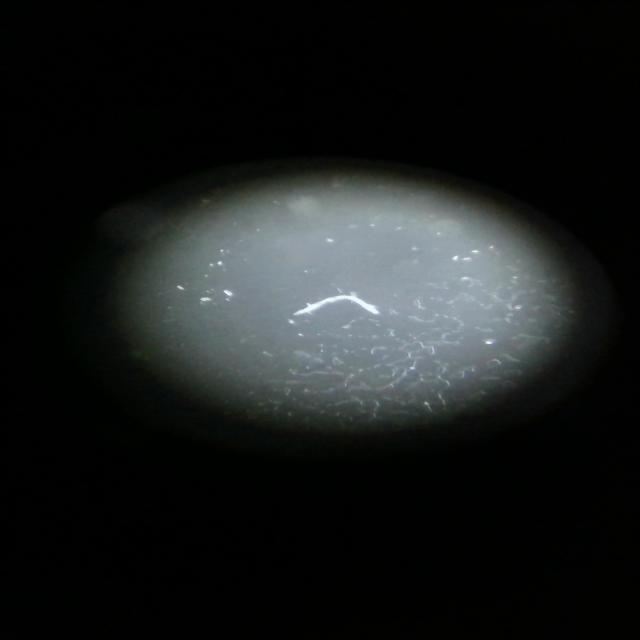psudo-nitzschia: (290, 286, 396, 318)
